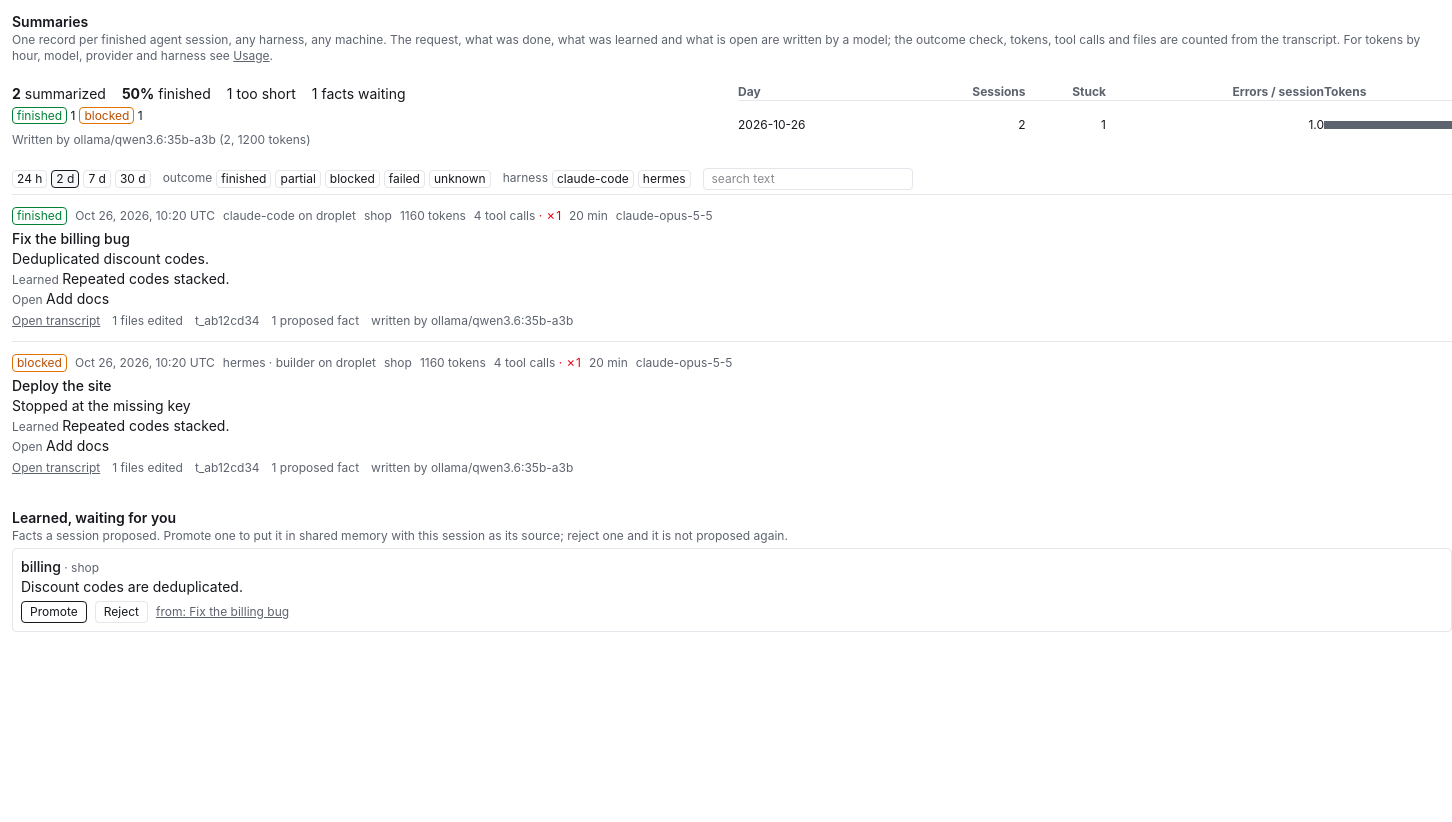
Test: Summaries view › promotes a proposed fact and the list empties
Expected: the text "Discount codes are deduplicated." is shown, [21,578,243,595]
Click the button "Promote": [54, 612] box [21,601,87,623]
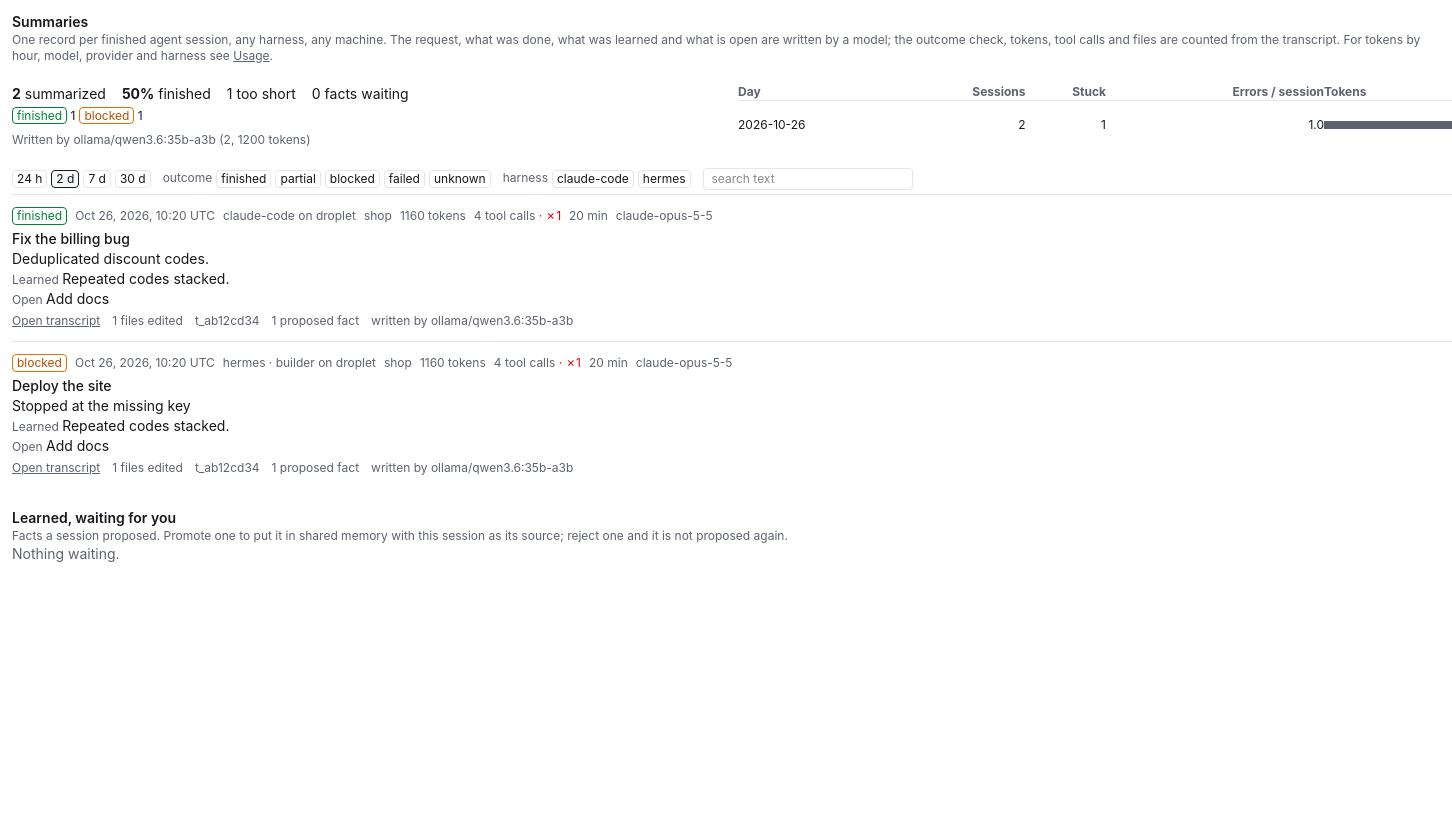
Expected: the text "Nothing waiting." is shown, [12,545,120,562]
